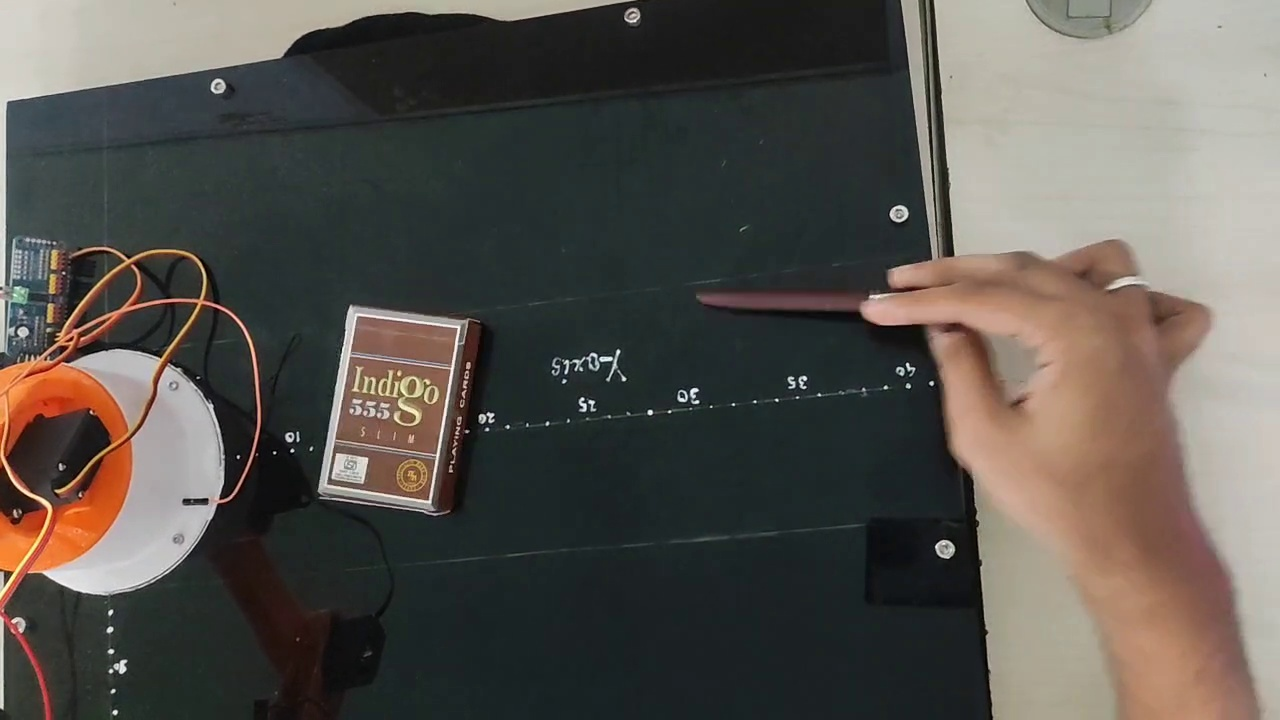BEX: (320, 317, 459, 501)
